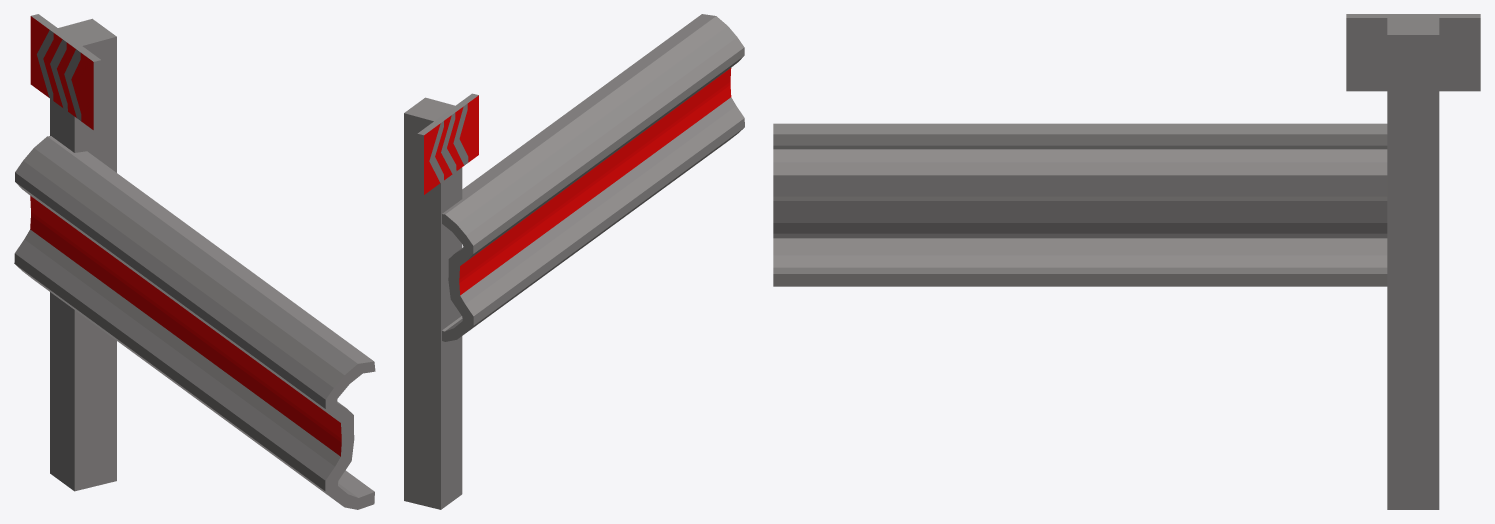
The model's file is ThanhPhanQuang.fbx.
3 renders of one model, left to right at view 1: azimuth 30°, elevation 25°; view 2: azimuth 150°, elevation 25°; view 3: azimuth 270°, elevation 25°, orthographic. The views are drawn at different scales.
Parts seen in each view (by area): view 1: Circle; view 2: Circle; view 3: Circle.
Part boxes in pixels (<box>): Circle: <box>14,14,375,509</box>; Circle: <box>404,14,744,509</box>; Circle: <box>773,14,1480,509</box>.
Size of the model in its own units: 0.9349 by 5.03 by 6.79.
